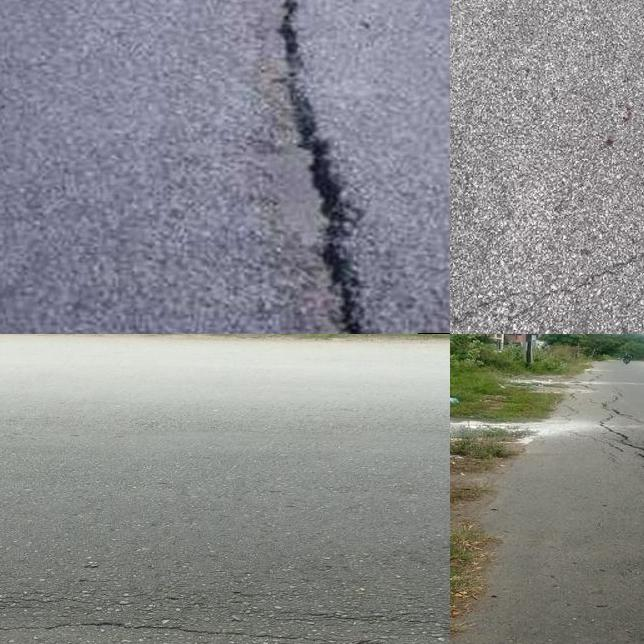Melintang: (450, 242, 644, 334)
Memanjang: (256, 0, 387, 334)
